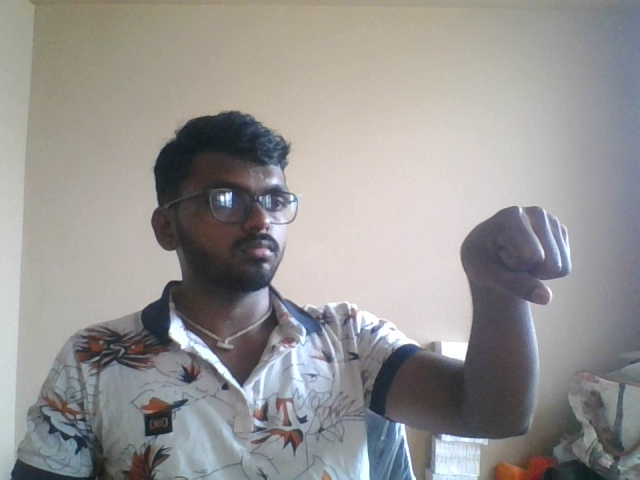Yes: (433, 186, 594, 340)
